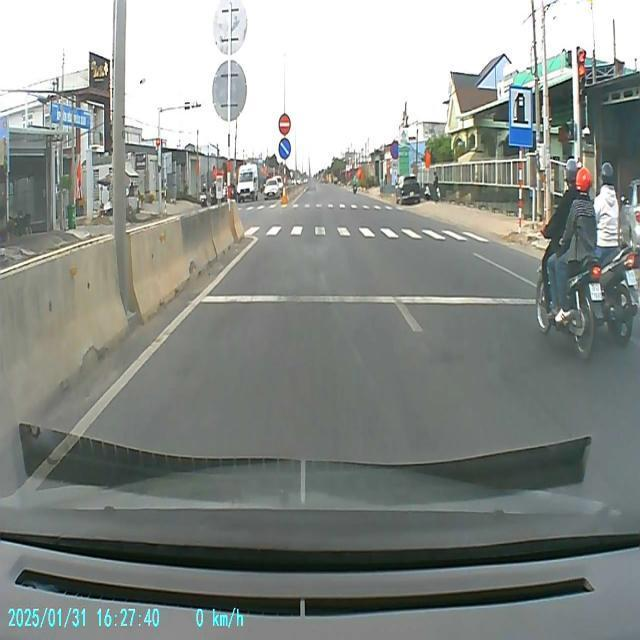102-cam-di-nguoc-chieu: (278, 112, 290, 134)
302a-huong-phai-di-vong-chuong-ngai-vat-1: (278, 138, 290, 158)
